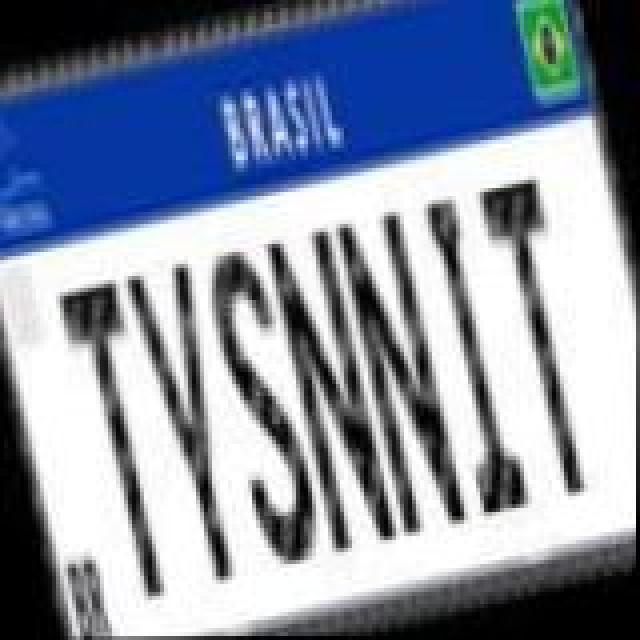I: (410, 188, 534, 524)
N: (326, 202, 474, 546), (258, 218, 398, 558)
S: (194, 238, 330, 574)
T: (470, 170, 606, 506), (56, 268, 188, 604)
Y: (120, 256, 260, 596)
